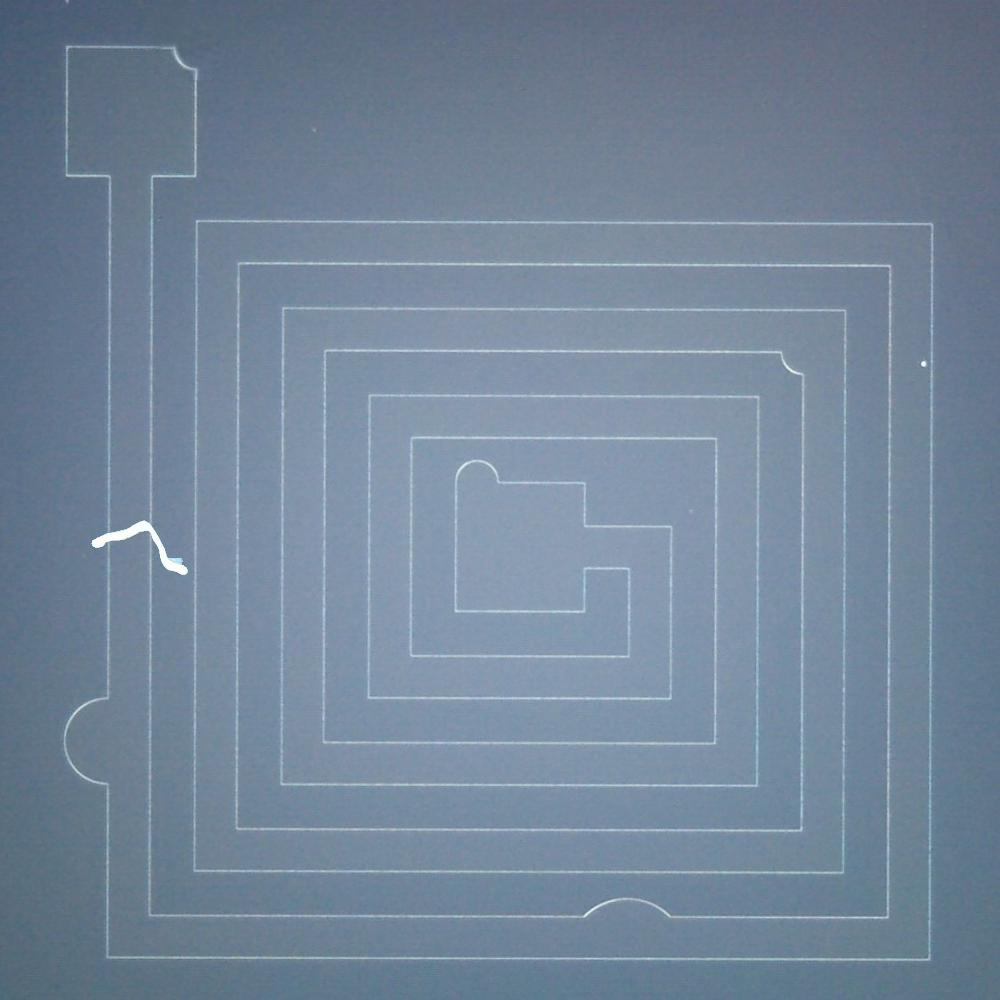curve circuit: (53, 679, 122, 801), (569, 887, 682, 929), (448, 450, 506, 493), (158, 36, 207, 83), (769, 341, 814, 386)
dot: (913, 350, 933, 377)
line: (83, 511, 197, 590)
